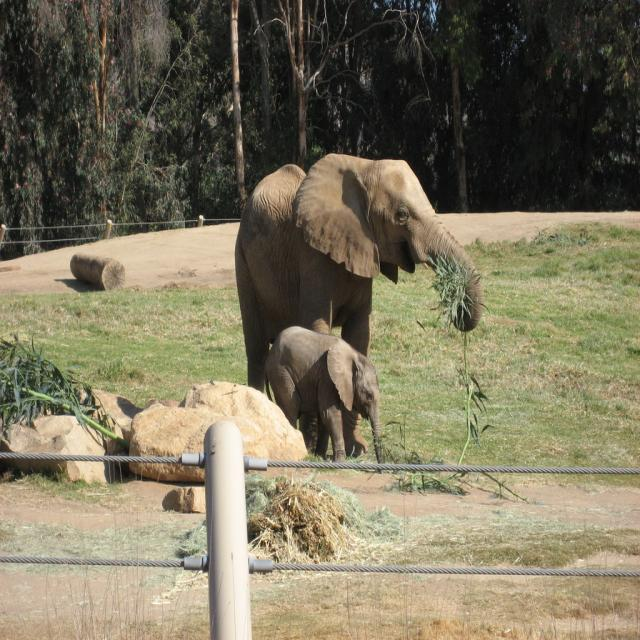elephant: (236, 156, 476, 394), (264, 320, 382, 487)
